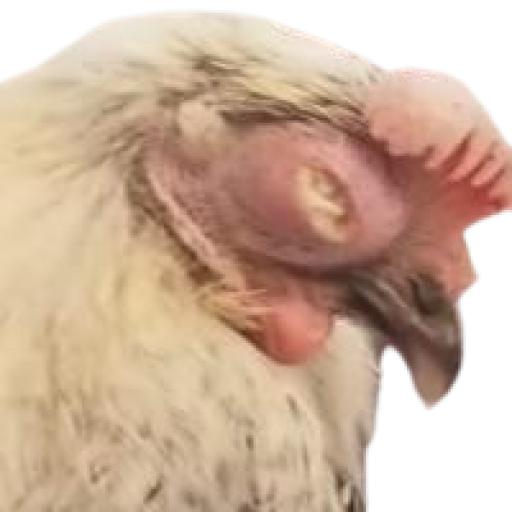disease: (251, 115, 393, 296)
